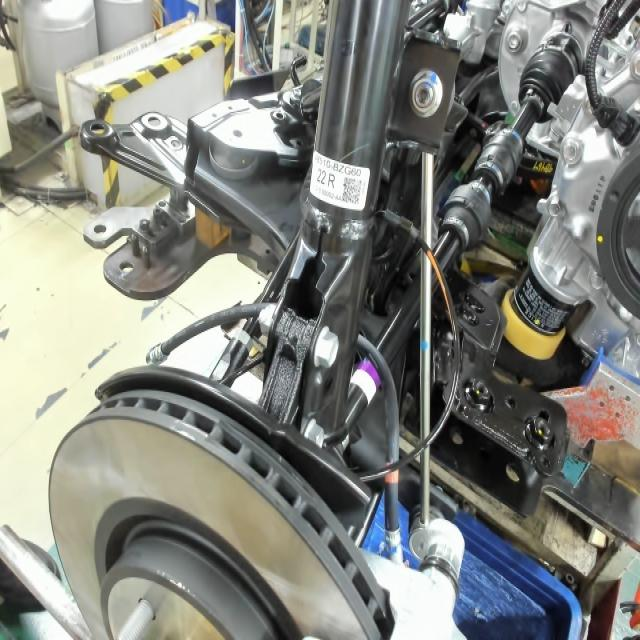Absorber RH-22: (312, 160, 365, 205)
Disc-HT: (85, 495, 303, 640)
Drive Shaft-UG: (348, 357, 389, 409)
